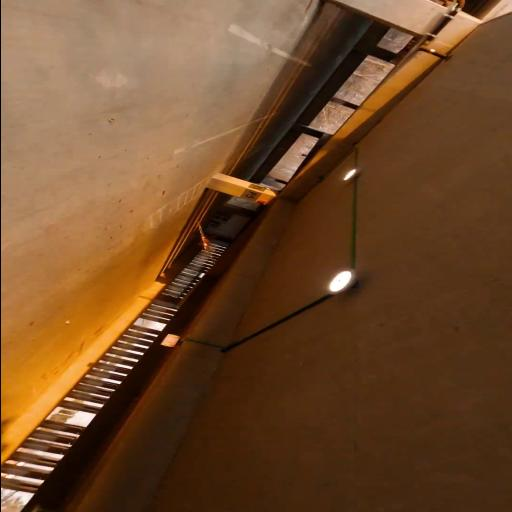uav: (194, 221, 216, 263)
